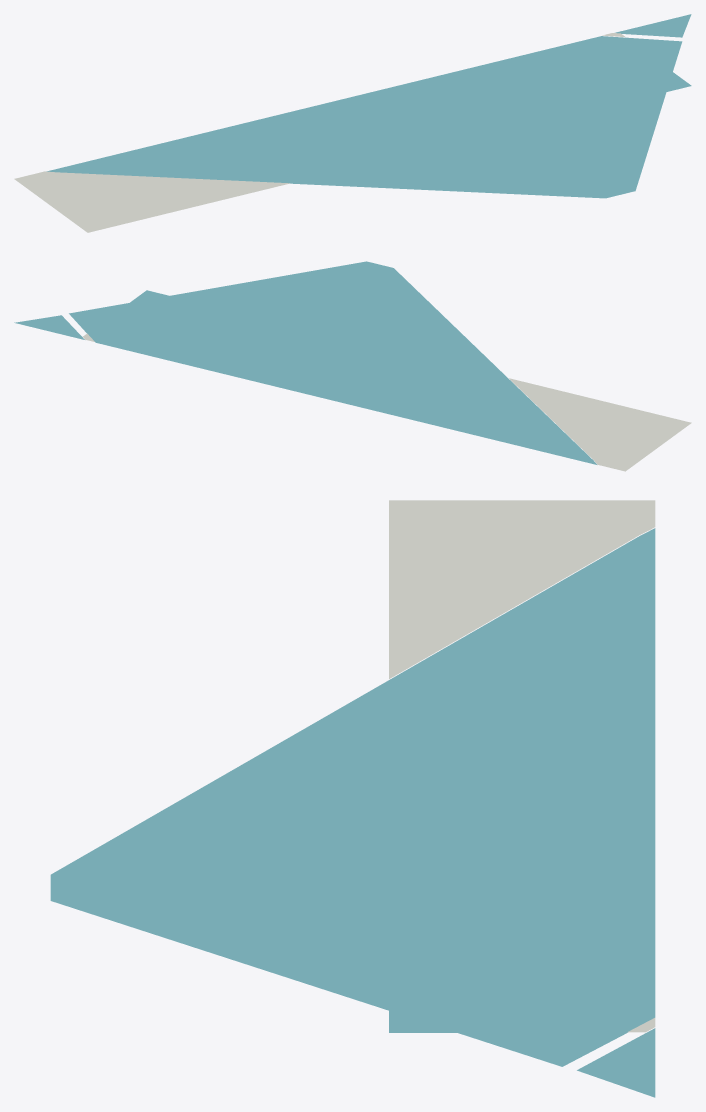
3 renders of one model, top to bottom at view 1: azimuth 30°, elevation 25°; view 2: azimuth 150°, elevation 25°; view 3: azimuth 270°, elevation 25°, orthographic. The views are drawn at different scales.
Parts seen in each view (by area): view 1: city; view 2: city; view 3: city.
Boxes of the visible parts, x1=… form: city: x1=14, y1=14, x2=691, y2=232; city: x1=14, y1=261, x2=691, y2=471; city: x1=50, y1=500, x2=655, y2=1097.
Size of the model in its own units: 280 by 0.18 by 120.
